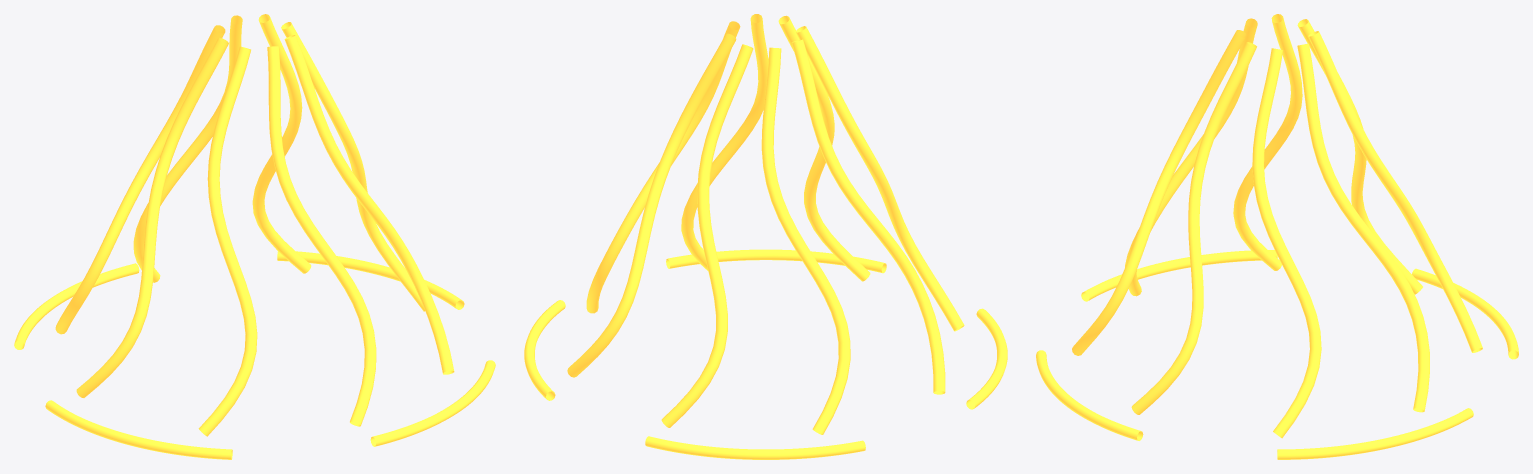
File: EmberBurst.fbx
3 renders of one model, left to right at view 1: azimuth 30°, elevation 25°; view 2: azimuth 150°, elevation 25°; view 3: azimuth 270°, elevation 25°, orthographic.
Visible parts, largest first — view 1: Flame tongue.013, Flame tongue.014, Flame tongue.012, Flame tongue.015, Flame tongue.011, Flame tongue.009, Flame tongue.008, Flame tongue.010, Broken impact ring.006, Broken impact ring.007, Broken impact ring.005, Broken impact ring.004; view 2: Flame tongue.011, Flame tongue.010, Flame tongue.012, Flame tongue.009, Flame tongue.013, Flame tongue.015, Flame tongue.014, Flame tongue.008, Broken impact ring.005, Broken impact ring.007, Broken impact ring.004, Broken impact ring.006; view 3: Flame tongue.008, Flame tongue.009, Flame tongue.015, Flame tongue.010, Flame tongue.014, Flame tongue.012, Broken impact ring.004, Flame tongue.011, Flame tongue.013, Broken impact ring.006, Broken impact ring.007, Broken impact ring.005.
Part boxes in pixels (<box>): Flame tongue.013: <box>198,46,257,436</box>; Flame tongue.014: <box>267,46,376,426</box>; Flame tongue.012: <box>76,37,228,397</box>; Flame tongue.015: <box>284,35,454,374</box>; Flame tongue.011: <box>55,25,225,334</box>; Flame tongue.009: <box>252,14,311,273</box>; Flame tongue.008: <box>281,22,424,311</box>; Flame tongue.010: <box>133,15,242,282</box>; Broken impact ring.006: <box>45,400,232,459</box>; Broken impact ring.007: <box>370,360,495,446</box>; Broken impact ring.005: <box>14,263,139,349</box>; Broken impact ring.004: <box>277,251,464,309</box>; Flame tongue.011: <box>761,47,850,434</box>; Flame tongue.010: <box>661,44,753,427</box>; Flame tongue.012: <box>791,39,945,394</box>; Flame tongue.009: <box>567,33,736,377</box>; Flame tongue.013: <box>796,26,964,331</box>; Flame tongue.015: <box>681,14,768,270</box>; Flame tongue.014: <box>778,15,870,281</box>; Flame tongue.008: <box>586,21,740,313</box>; Broken impact ring.005: <box>645,436,865,459</box>; Broken impact ring.007: <box>666,249,886,273</box>; Broken impact ring.004: <box>524,300,565,400</box>; Broken impact ring.006: <box>966,308,1007,409</box>; Flame tongue.008: <box>1252,48,1321,438</box>; Flame tongue.009: <box>1297,43,1429,412</box>; Flame tongue.015: <box>1131,42,1256,414</box>; Flame tongue.010: <box>1308,31,1482,352</box>; Flame tongue.014: <box>1072,30,1246,355</box>; Flame tongue.012: <box>1233,14,1302,270</box>; Broken impact ring.004: <box>1277,408,1473,459</box>; Flame tongue.011: <box>1297,19,1422,294</box>; Flame tongue.013: <box>1125,18,1257,296</box>; Broken impact ring.006: <box>1081,250,1277,301</box>; Broken impact ring.007: <box>1036,350,1143,440</box>; Broken impact ring.005: <box>1412,268,1518,359</box>.
Size of the model in its own units: 200 by 150 by 200.
